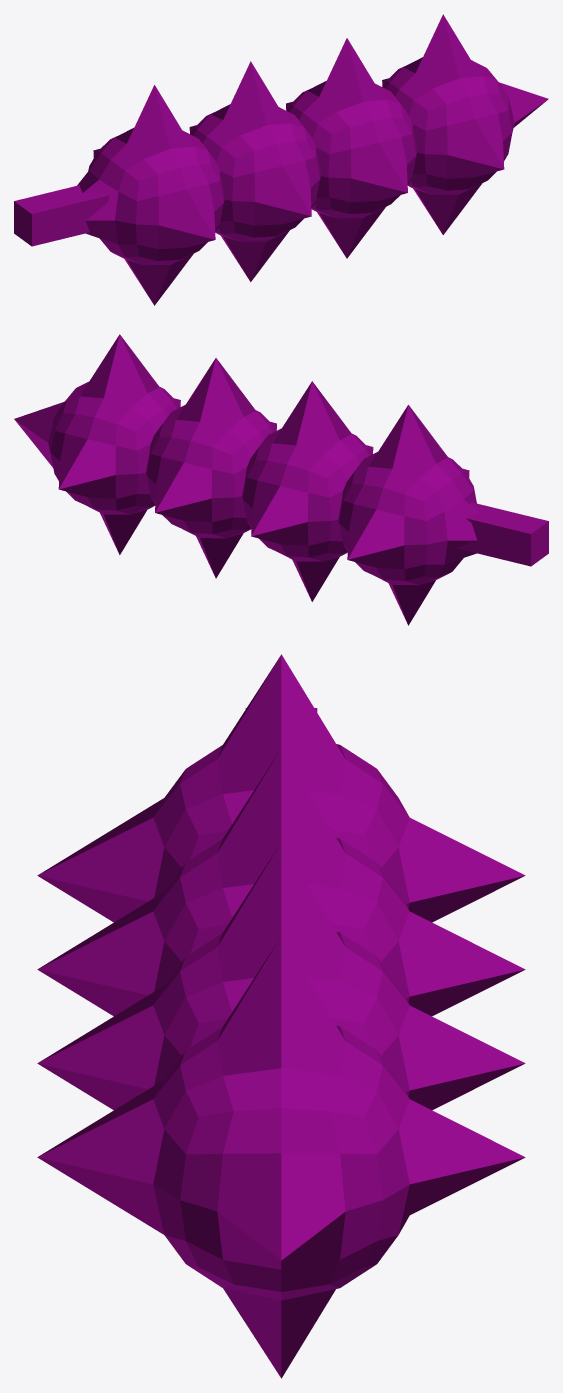
The model's file is bar.gltf.
3 views of the same model, one above another, from view 1: azimuth 30°, elevation 25°; view 2: azimuth 150°, elevation 25°; view 3: azimuth 270°, elevation 25° (orthographic). The views are drawn at different scales.
Visible parts, largest first — view 1: FireBarBar; view 2: FireBarBar; view 3: FireBarBar.
Boxes of the visible parts, x1,y1,x2,y2 form: FireBarBar: (14, 14, 548, 305); FireBarBar: (14, 334, 548, 625); FireBarBar: (37, 654, 525, 1378).
Size of the model in its own units: 6.68 by 2.69 by 2.69.
Materials: 1 (1 with a texture image).
